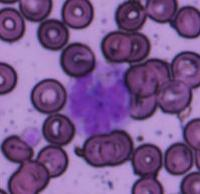D: (64, 67, 131, 137)
